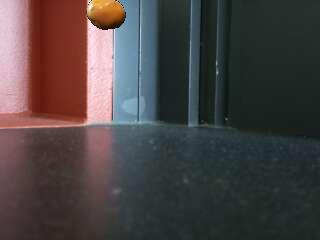Potato: (87, 0, 127, 30)
